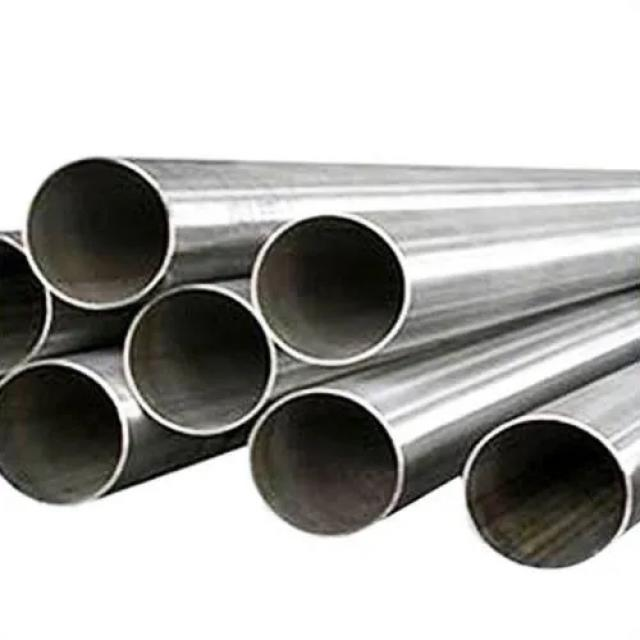pipe: (468, 422, 628, 568), (253, 216, 406, 364), (125, 286, 275, 436), (27, 159, 169, 308), (251, 395, 398, 536), (0, 366, 122, 504)
